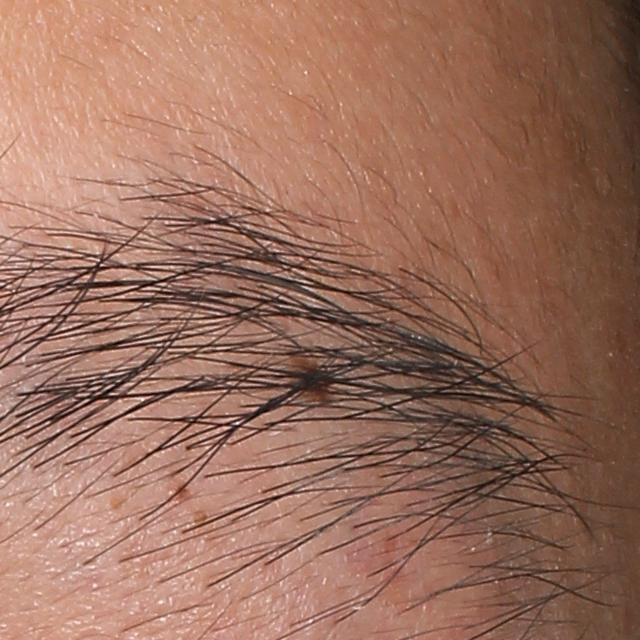nevus: (290, 349, 330, 401)
